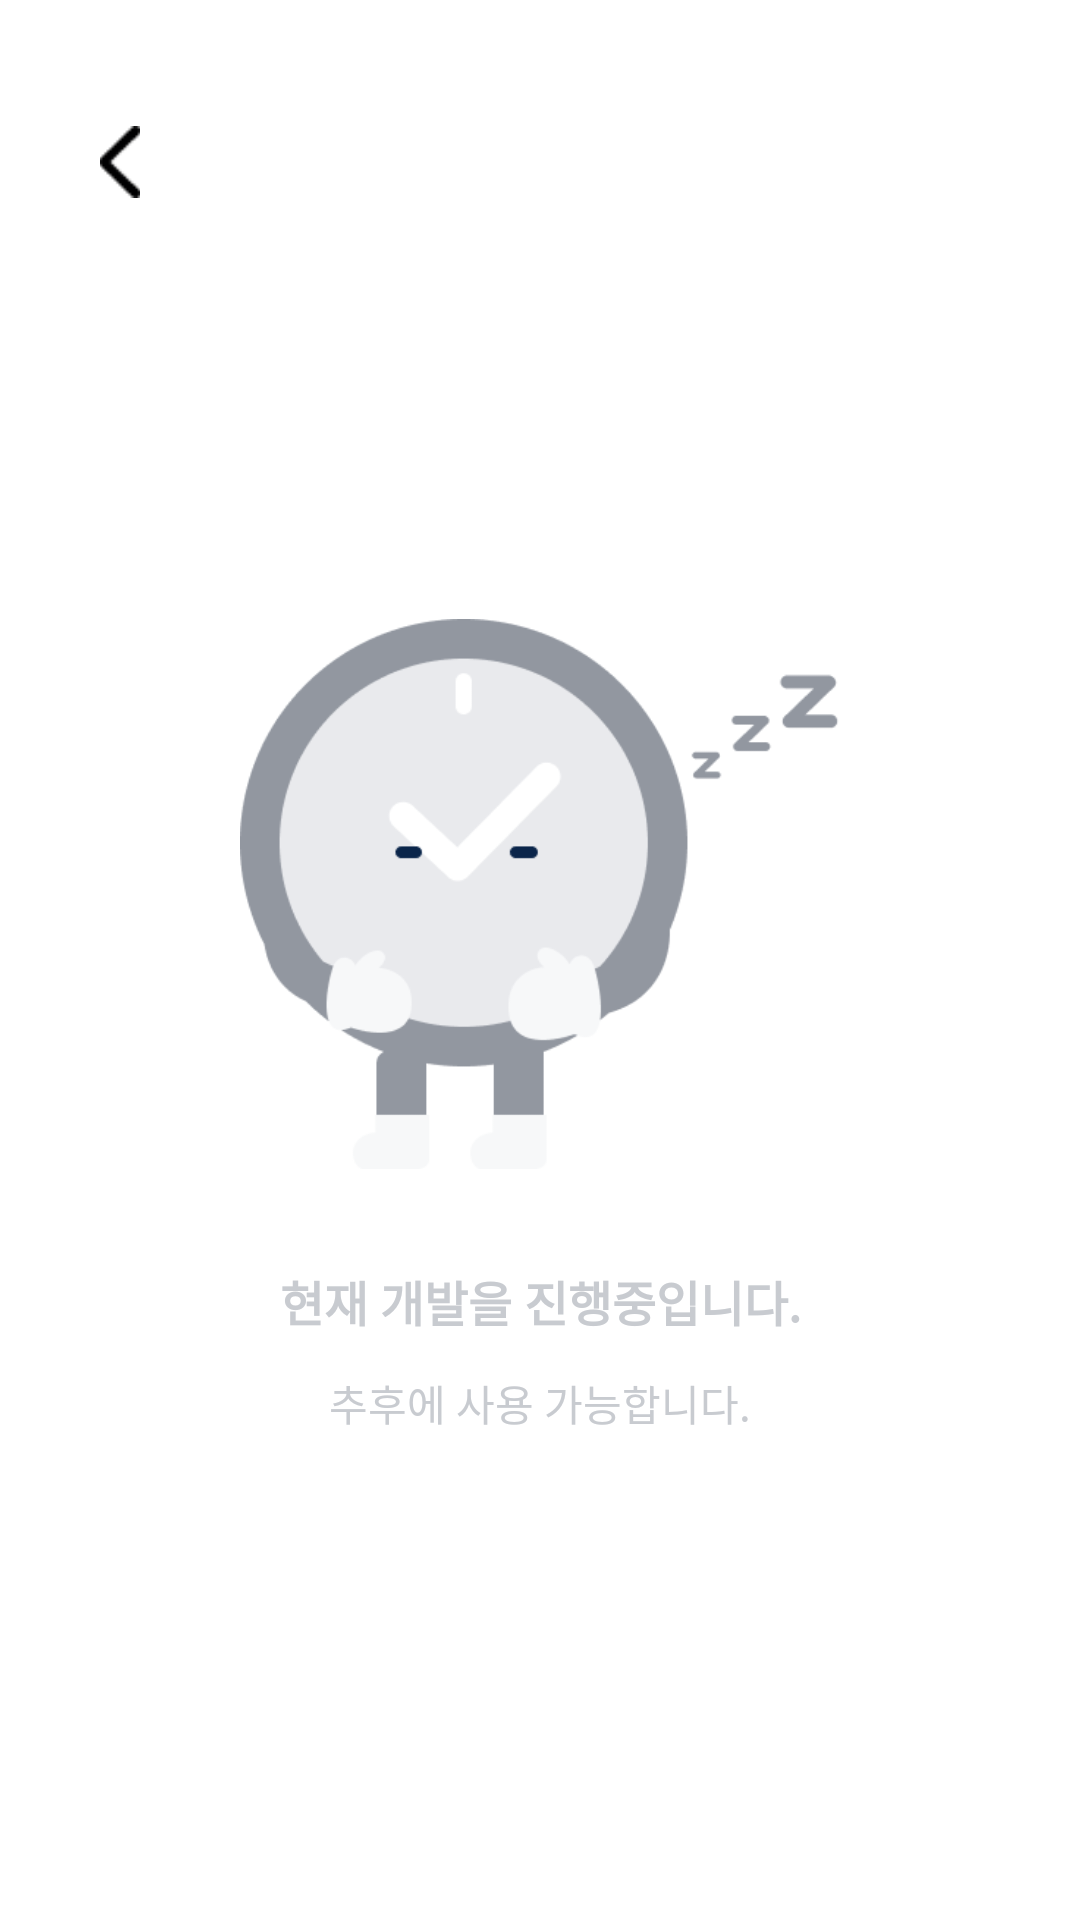

Where to tap for icons on this 1080x1920 app screen, as (x=x, y=y):
뒤로가기: (x=120, y=162)
